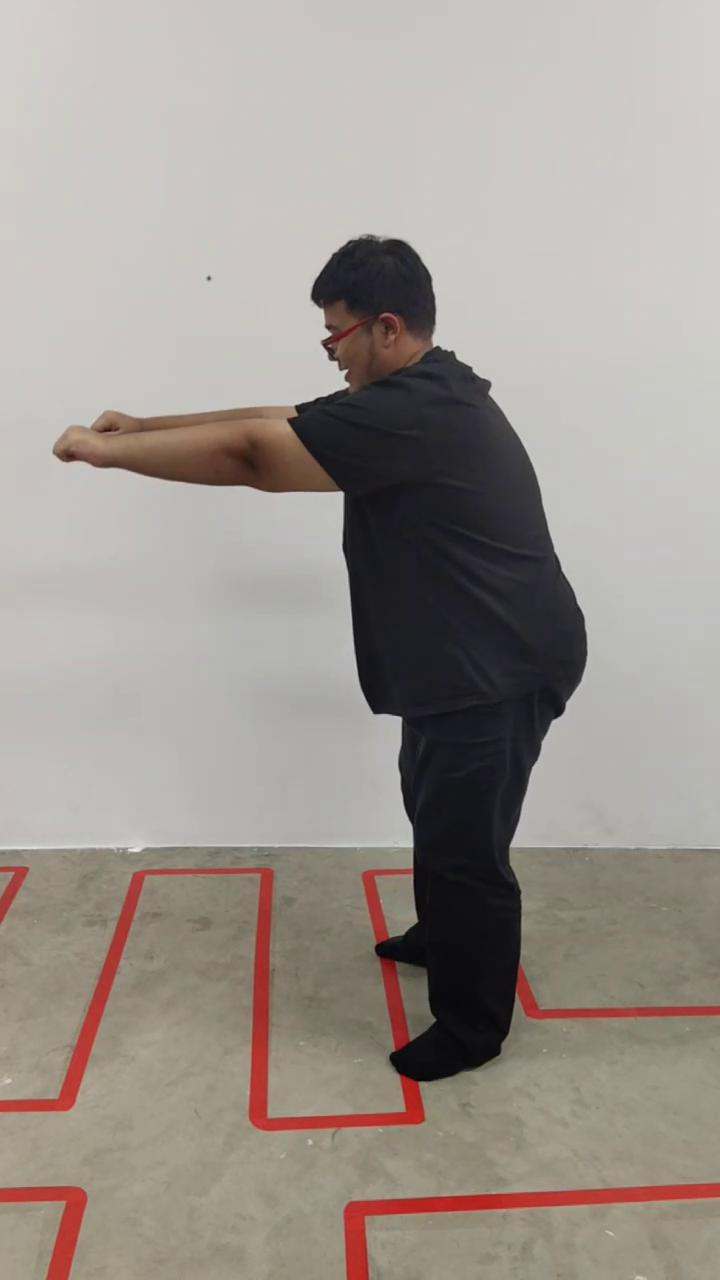squat up: (55, 234, 587, 1076)
